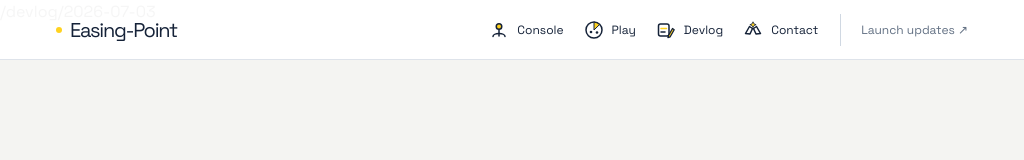
Test: returns from a devlog article to the home Console anchor
Click the link "Console" at [526, 30], box [489, 20, 564, 40]
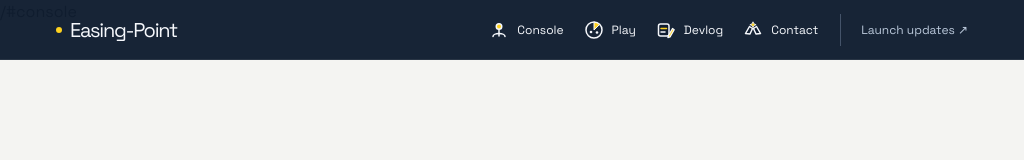
Check: the text named "Current route" reads "/#console", box [0, 1, 77, 22]
